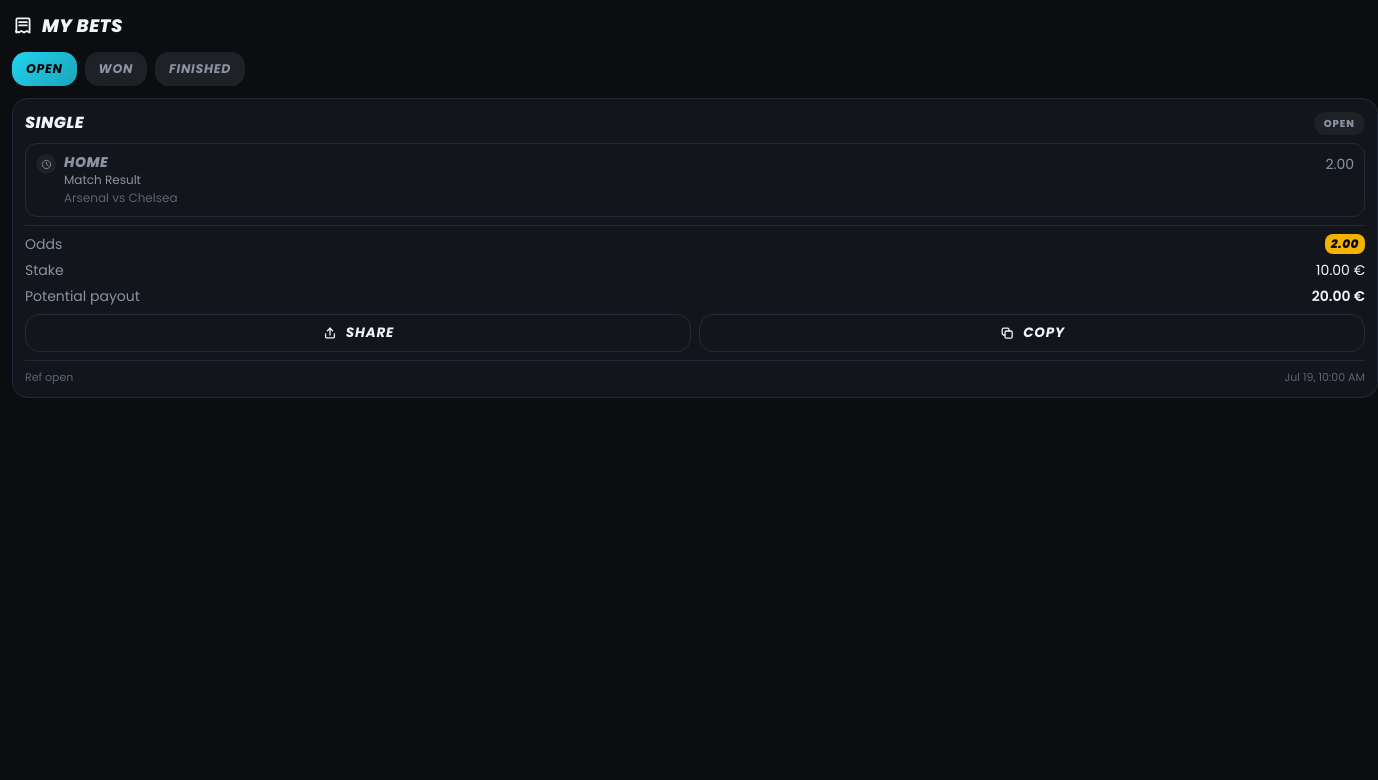
Test case: MyBetsPage › defaults to the Open tab and switches to Won/Finished on click
Expected: the text "OPEN" is shown, 1314,112 -> 1365,134
Step 1. Click the tab "Won" → click(116, 69), box 85,52 -> 147,86
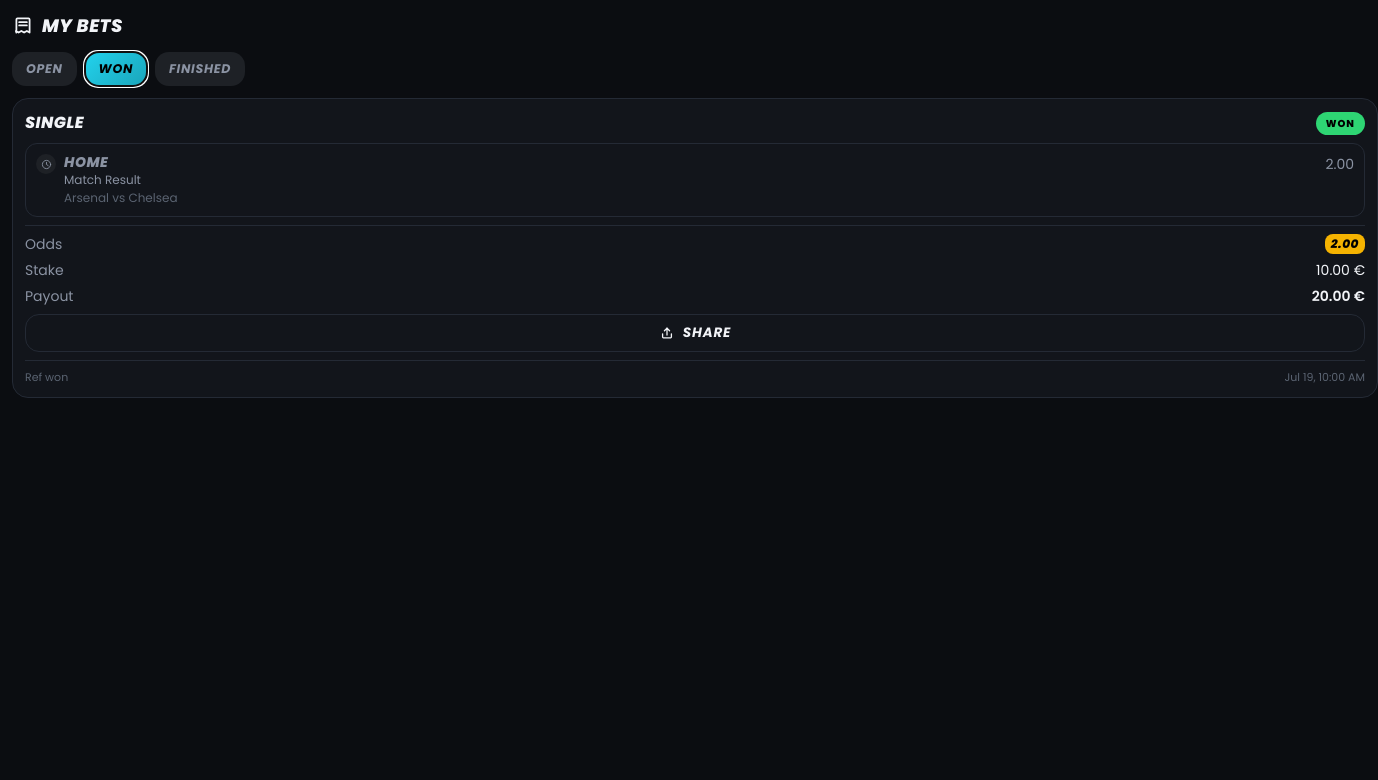
Result: the text "WON" is shown at 1316,112 -> 1365,134
Step 2. Click the tab "Finished" → click(200, 69), box 155,52 -> 245,86
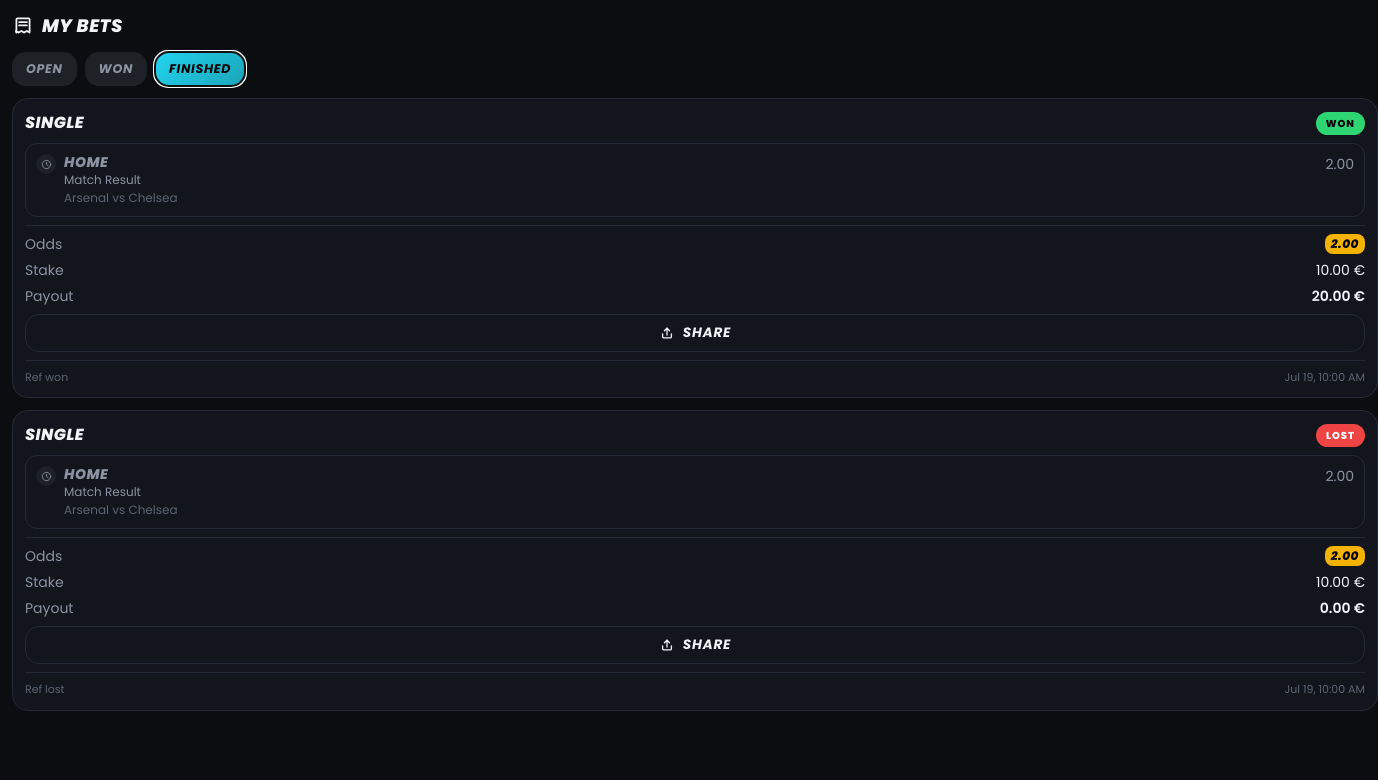
Result: the text "WON" is shown at 1316,112 -> 1365,134
Result: the text "LOST" is shown at 1316,424 -> 1365,447
